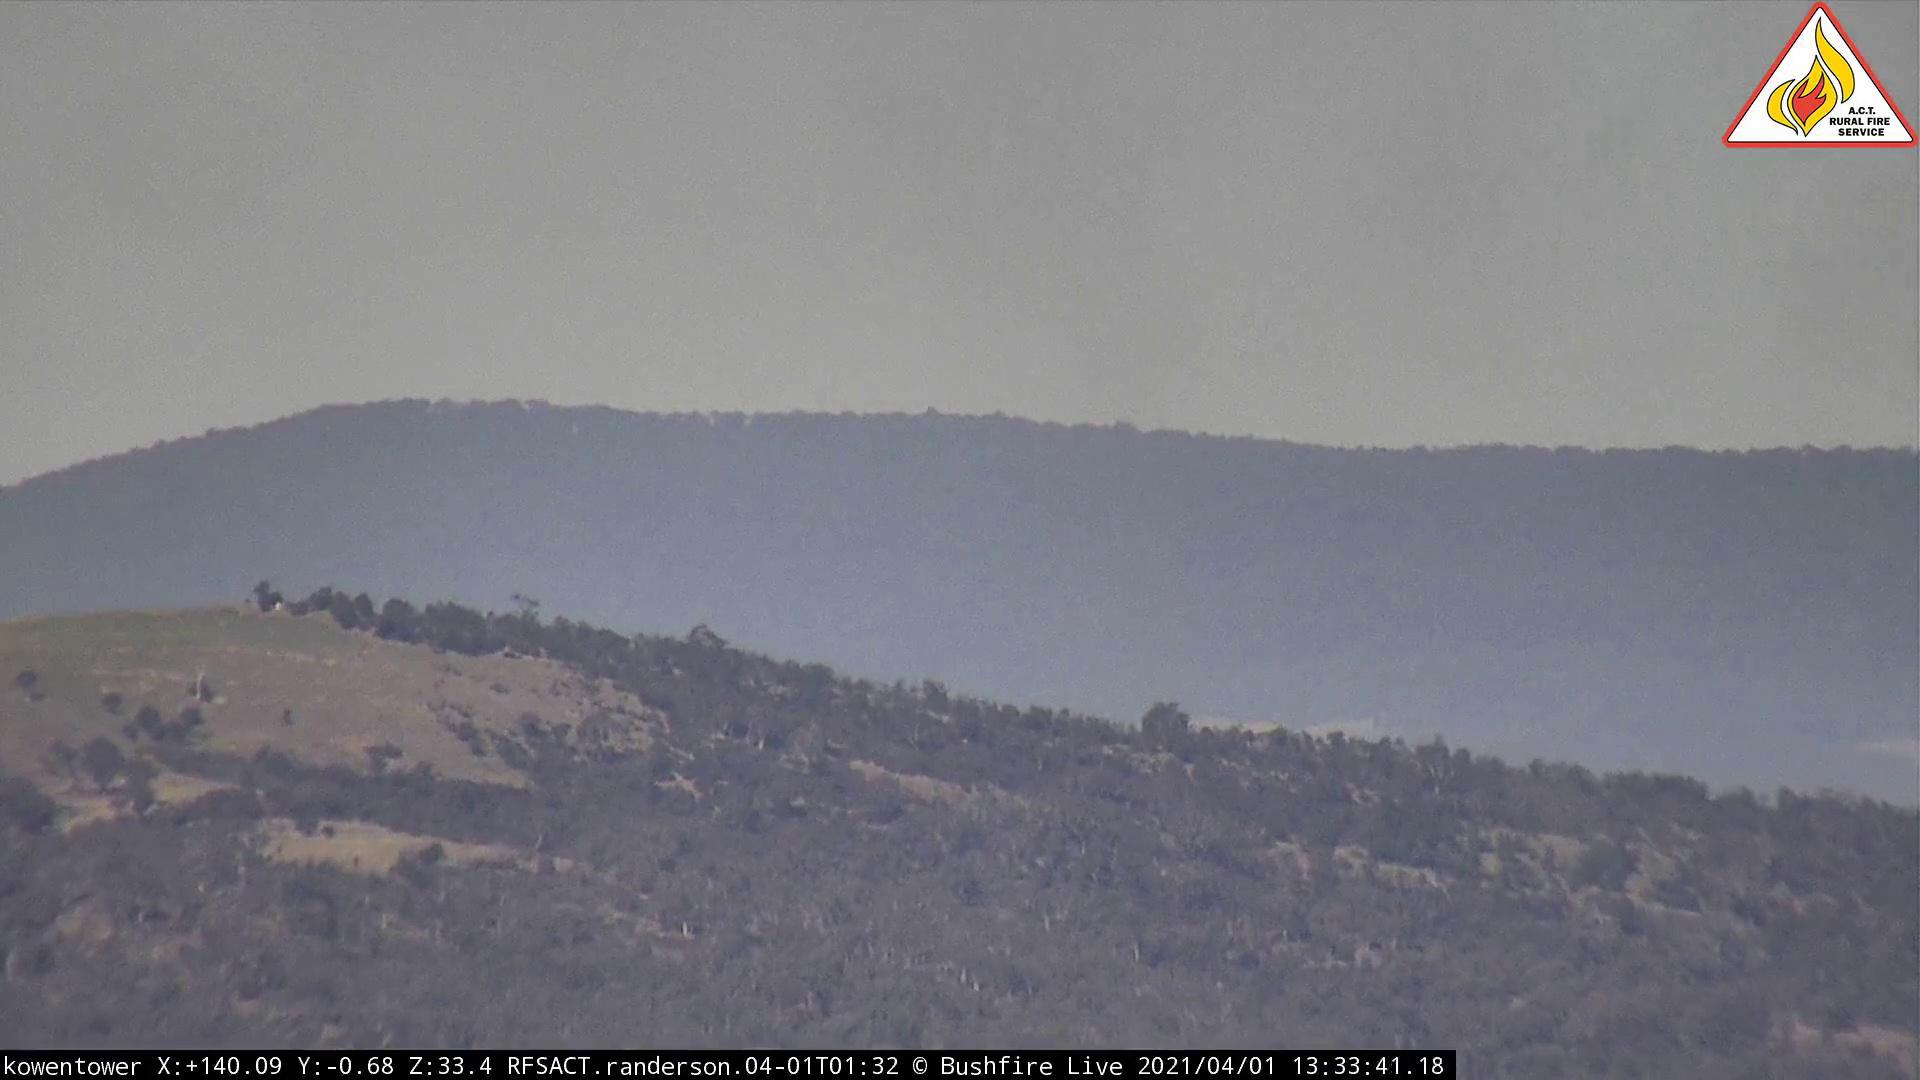Smoke: (1618, 162, 1920, 394)
